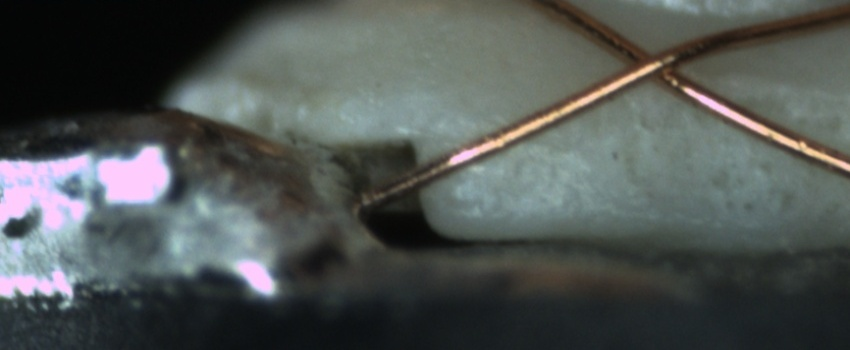CL: (603, 30, 709, 96)
